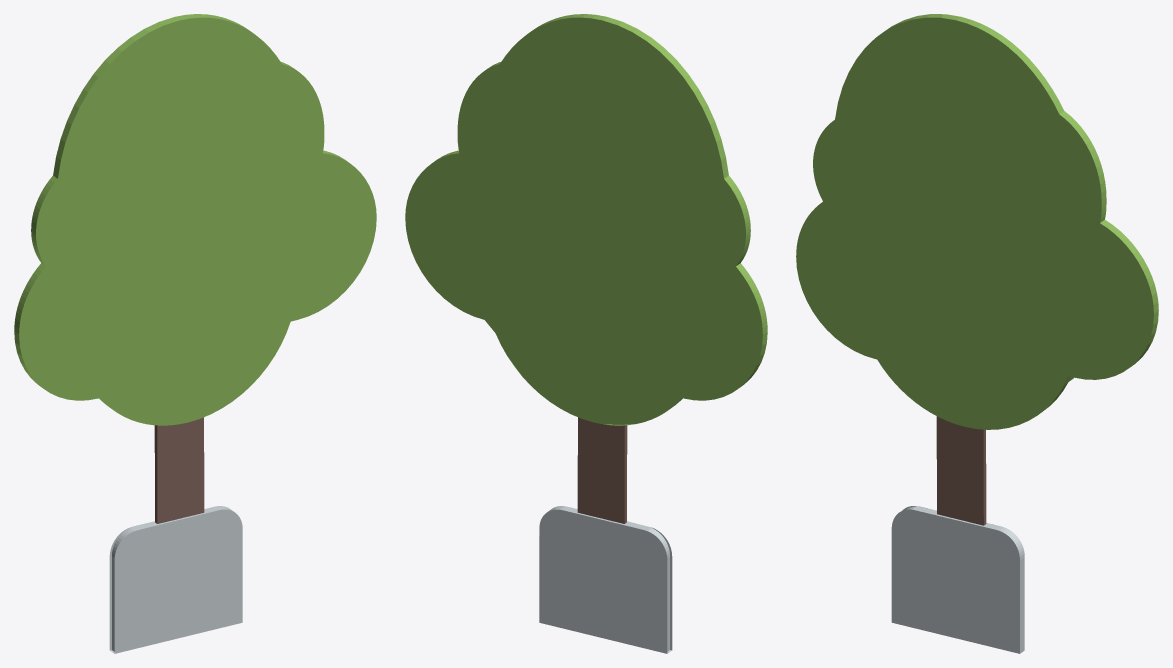
Rendered from tree.gltf.
3 views of the same model, side by side, from view 1: azimuth 30°, elevation 25°; view 2: azimuth 150°, elevation 25°; view 3: azimuth 330°, elevation 25° (orthographic).
Visible parts, largest first — view 1: stem; view 2: stem; view 3: stem.
Boxes of the visible parts, x1,y1,x2,y2 form: stem: (14, 14, 376, 653); stem: (405, 14, 767, 653); stem: (796, 14, 1158, 653).
Bounding box in the file's own units: 2.91 × 4.8 × 0.0687.
